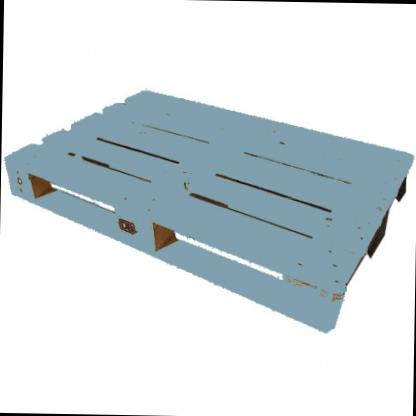BoxFace: (2, 83, 415, 338)
